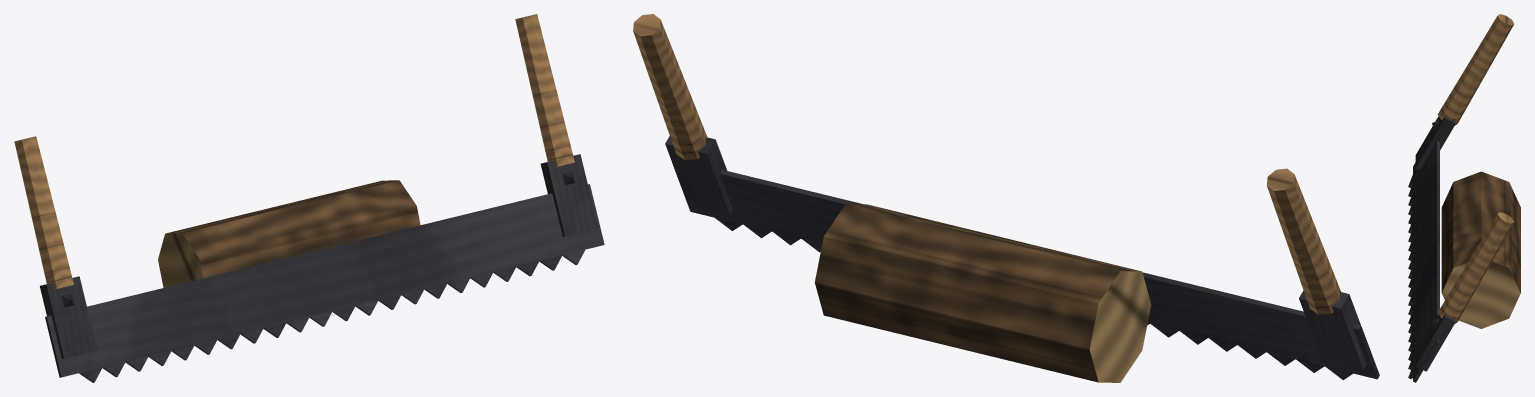
The model's file is prop_zaag.glb.
The picture shows the model from 3 angles, left to right: view 1: azimuth 30°, elevation 25°; view 2: azimuth 150°, elevation 25°; view 3: azimuth 270°, elevation 25°; orthographic projection. The views are drawn at different scales.
Visible parts, largest first — view 1: prop_zaag; view 2: prop_zaag; view 3: prop_zaag.
Boxes of the visible parts, x1,y1,x2,y2 form: prop_zaag: (14, 14, 604, 382); prop_zaag: (633, 14, 1379, 382); prop_zaag: (1408, 14, 1520, 382).
Size of the model in its own units: 0.9 by 0.3347 by 0.1995.
Materials: 1 (1 with a texture image).
